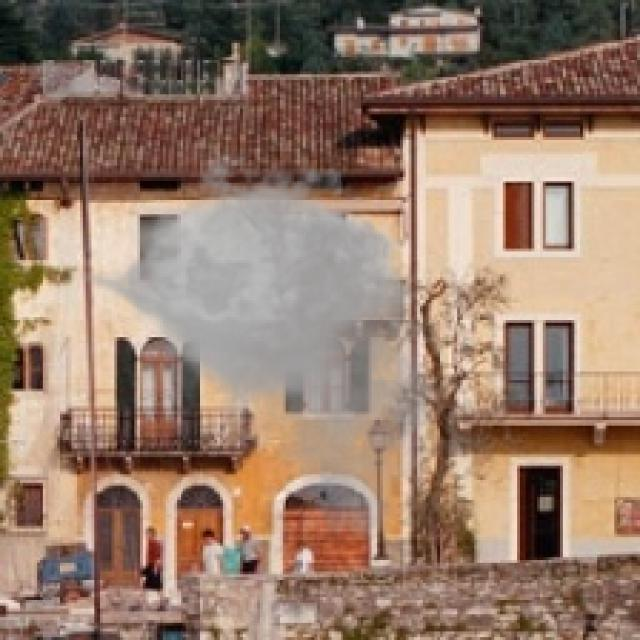Smoke: (66, 137, 454, 546)
